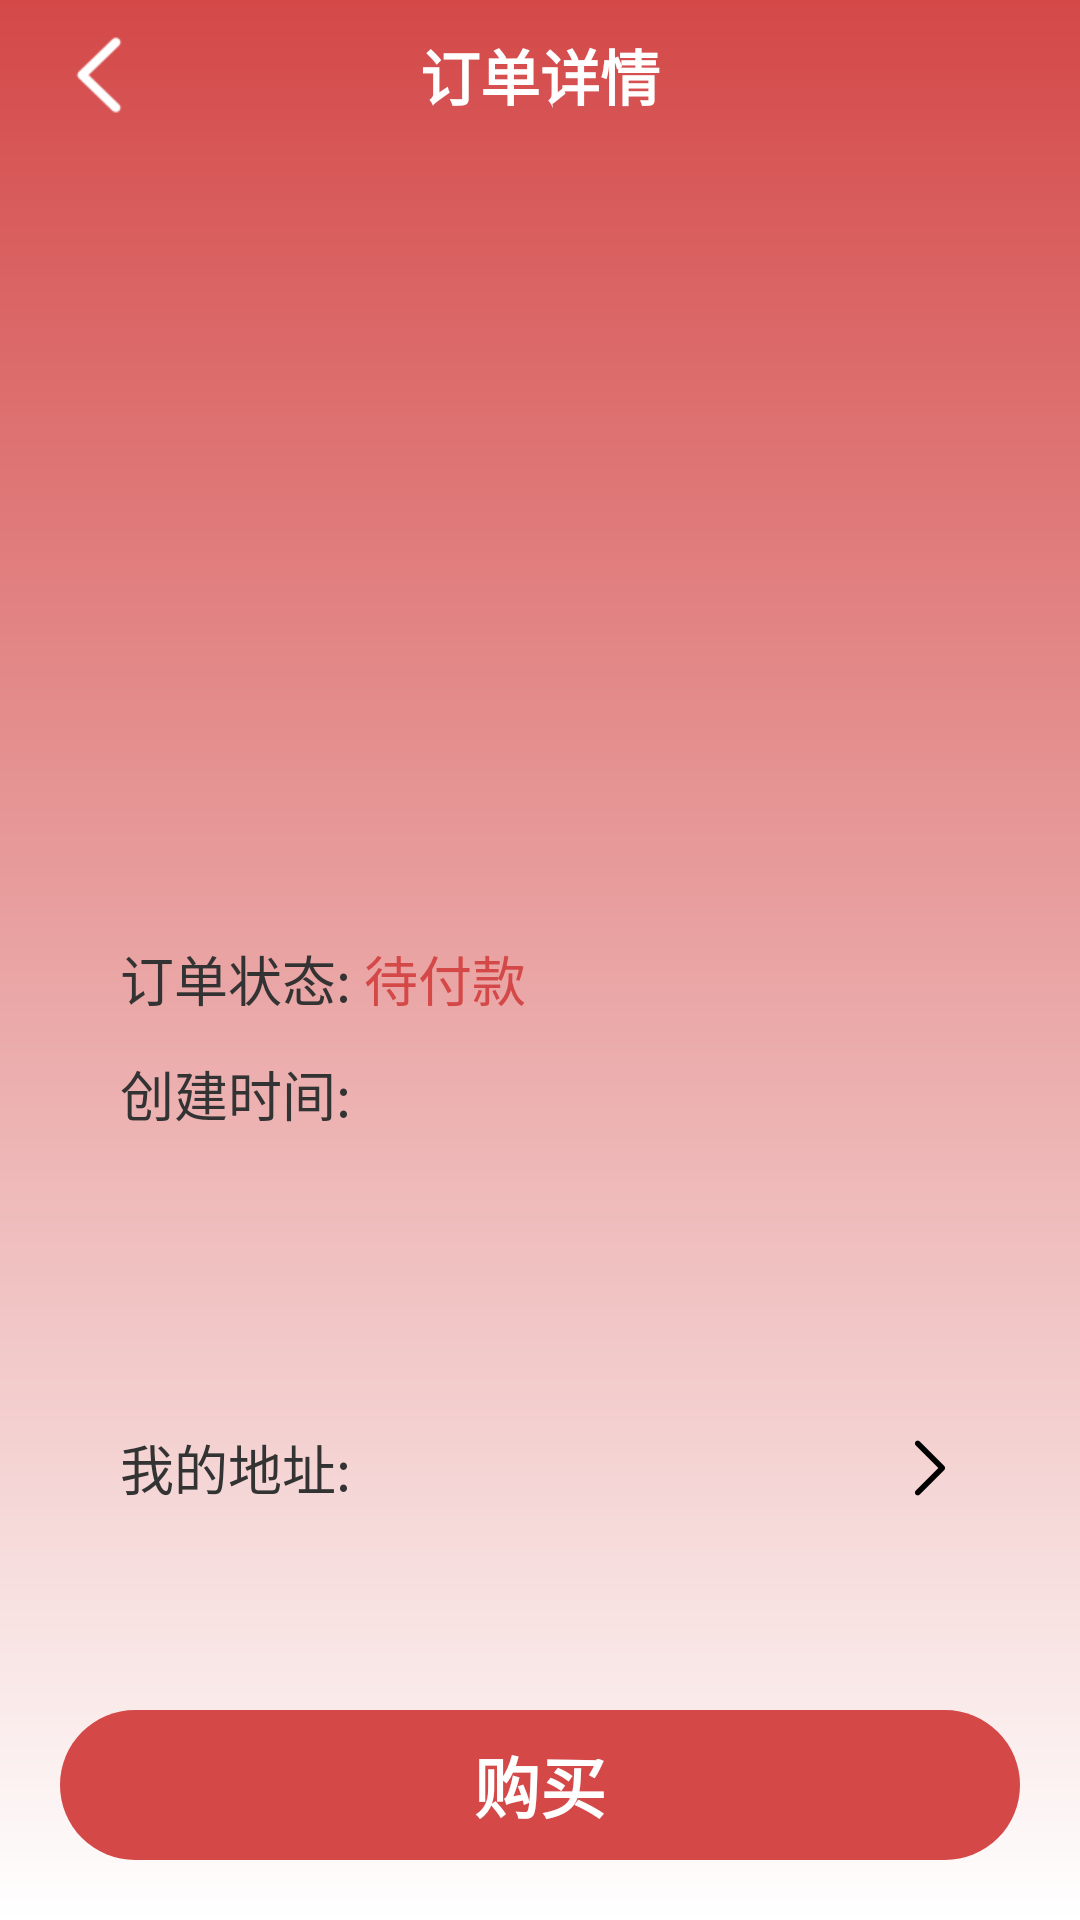

Screen size 1080*1920. Icon name, then its center in pixels as (x=x, y=y):
back: (x=99, y=75)
right arrow: (x=930, y=1468)
